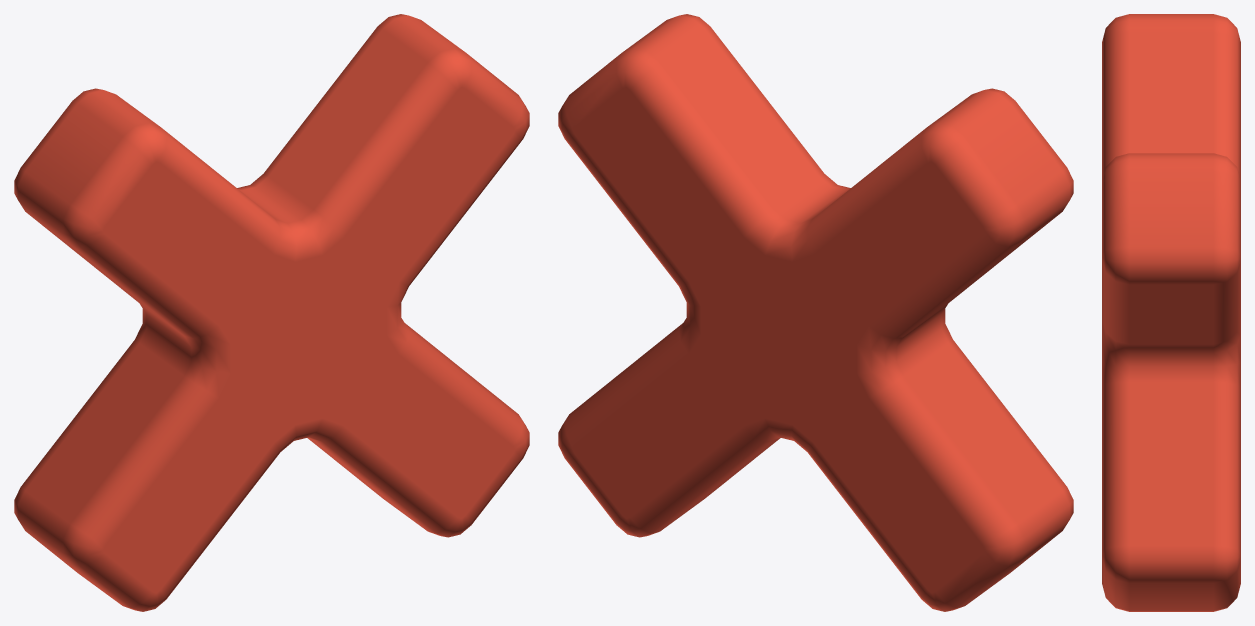
The model's file is Cross.fbx.
3 renders of one model, left to right at view 1: azimuth 30°, elevation 25°; view 2: azimuth 150°, elevation 25°; view 3: azimuth 270°, elevation 25°, orthographic. The views are drawn at different scales.
Visible parts, largest first — view 1: Crest; view 2: Crest; view 3: Crest.
Boxes of the visible parts, x1,y1,x2,y2 form: Crest: (14, 14, 529, 611); Crest: (558, 14, 1073, 611); Crest: (1102, 14, 1240, 611).
Size of the model in its own units: 7.2 by 7.2 by 2.
